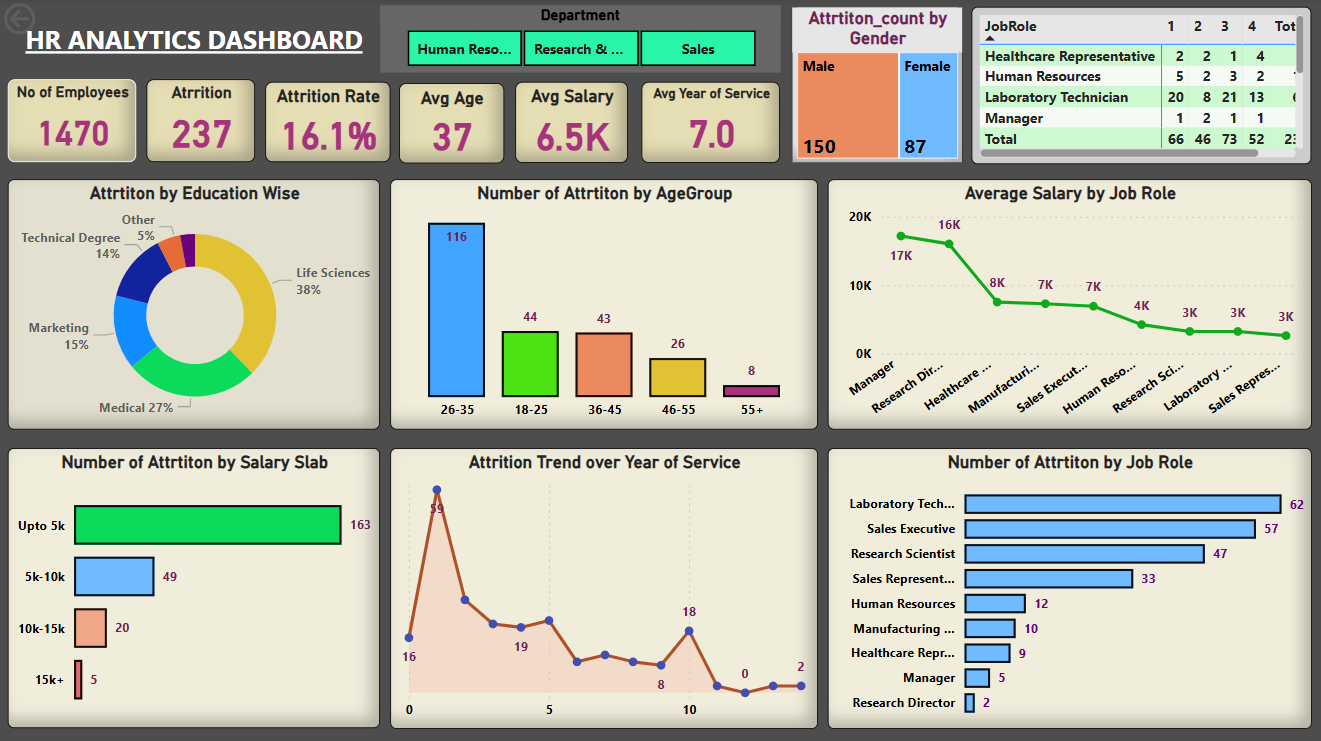

The page's visual inventory and layout, read from the dashboard file:
{"tool":"powerbi","page":{"name":"Page 1","canvas":[1280,720],"ordinal":0},"visuals":[{"type":"card","title":"No of Employees","fields":{"Values":["HR_Analytics (1).TOTAL_EMPLOYEES"]},"box":[8.4,78.4,124.3,79.6],"z":0},{"type":"card","title":"Atrrition","fields":{"Values":["Sum(HR_Analytics (1).Attrtiton_count)"]},"box":[142.4,78.4,105,79.6],"z":1000},{"type":"card","title":"Attrition Rate","fields":{"Values":["HR_Analytics (1).Attrition_Rate"]},"box":[257,80.8,120.6,77.2],"z":2000},{"type":"card","title":"Avg Age","fields":{"Values":["Avg(HR_Analytics (1).Age)"]},"box":[386.1,82,101.3,77.2],"z":3000},{"type":"actionButton","box":[0,0,100,40],"z":4000},{"type":"card","title":"Avg Salary","fields":{"Values":["Avg(HR_Analytics (1).MonthlyIncome)"]},"box":[498.3,80.8,108.6,78.4],"z":5000},{"type":"slicer","title":"Department","fields":{"Values":["HR_Analytics (1).Department"]},"box":[368,7.2,386.1,65.1],"z":6000},{"type":"treemap","title":"Attrtiton_count by Gender","fields":{"Values":["Sum(HR_Analytics (1).Attrtiton_count)"],"Group":["HR_Analytics (1).Gender"]},"box":[764.9,8.4,165.3,150.8],"z":7000},{"type":"columnChart","title":"Number of Attrtiton by AgeGroup","fields":{"Y":["Sum(HR_Analytics (1).Attrtiton_count)"],"Category":["HR_Analytics (1).AgeGroup"]},"box":[377.6,174.9,412.6,241.3],"z":8000},{"type":"donutChart","title":"Attrtiton by Education Wise","fields":{"Y":["Sum(HR_Analytics (1).Attrtiton_count)"],"Category":["HR_Analytics (1).EducationField"]},"box":[8.4,174.9,359.5,241.3],"z":9000},{"type":"clusteredBarChart","title":"Number of Attrtiton by Salary Slab","fields":{"Category":["HR_Analytics (1).SalarySlab"],"Y":["Sum(HR_Analytics (1).Attrtiton_count)"]},"box":[8.4,434.3,359.5,270.2],"z":10000},{"type":"clusteredBarChart","title":"Number of Attrtiton by Job Role","fields":{"Category":["HR_Analytics (1).JobRole"],"Y":["Sum(HR_Analytics (1).Attrtiton_count)"]},"box":[799.9,434.3,466.9,271.4],"z":11000},{"type":"areaChart","title":"Attrition Trend over Year of Service","fields":{"Category":["HR_Analytics (1).YearsAtCompany"],"Y":["Sum(HR_Analytics (1).Attrtiton_count)"]},"box":[377.6,434.3,412.6,271.4],"z":12000},{"type":"textbox","box":[8.4,19.3,359.5,45.8],"z":13000},{"type":"pivotTable","title":"Attrtiton_count by Gender","fields":{"Rows":["HR_Analytics (1).JobRole"],"Columns":["HR_Analytics (1).JobSatisfaction"],"Values":["Sum(HR_Analytics (1).Attrtiton_count)"]},"box":[938.6,8.4,328.2,152],"z":14000},{"type":"lineChart","title":"Average Salary by Job Role","fields":{"Category":["HR_Analytics (1).JobRole"],"Y":["Avg(HR_Analytics (1).MonthlyIncome)"]},"box":[799.9,174.9,466.9,241.3],"z":15000},{"type":"card","title":"Avg Year of Service","fields":{"Values":["Avg(HR_Analytics (1).YearsAtCompany)"]},"box":[620.1,80.8,133.9,78.4],"z":16000}]}

Visuals, with their boxes in screenshot pixels (x1, y1, x2, y2), scaled from the page's 1280x720 canvas onto the 1321x741 screenshot:
"No of Employees" card: 9/81/137/163
"Atrrition" card: 147/81/255/163
"Attrition Rate" card: 265/83/390/163
"Avg Age" card: 398/84/503/164
actionButton: 0/0/103/41
"Avg Salary" card: 514/83/626/164
"Department" slicer: 380/7/778/74
"Attrtiton_count by Gender" treemap: 789/9/960/164
"Number of Attrtiton by AgeGroup" columnChart: 390/180/816/428
"Attrtiton by Education Wise" donutChart: 9/180/380/428
"Number of Attrtiton by Salary Slab" clusteredBarChart: 9/447/380/725
"Number of Attrtiton by Job Role" clusteredBarChart: 826/447/1307/726
"Attrition Trend over Year of Service" areaChart: 390/447/816/726
textbox: 9/20/380/67
"Attrtiton_count by Gender" pivotTable: 969/9/1307/165
"Average Salary by Job Role" lineChart: 826/180/1307/428
"Avg Year of Service" card: 640/83/778/164
